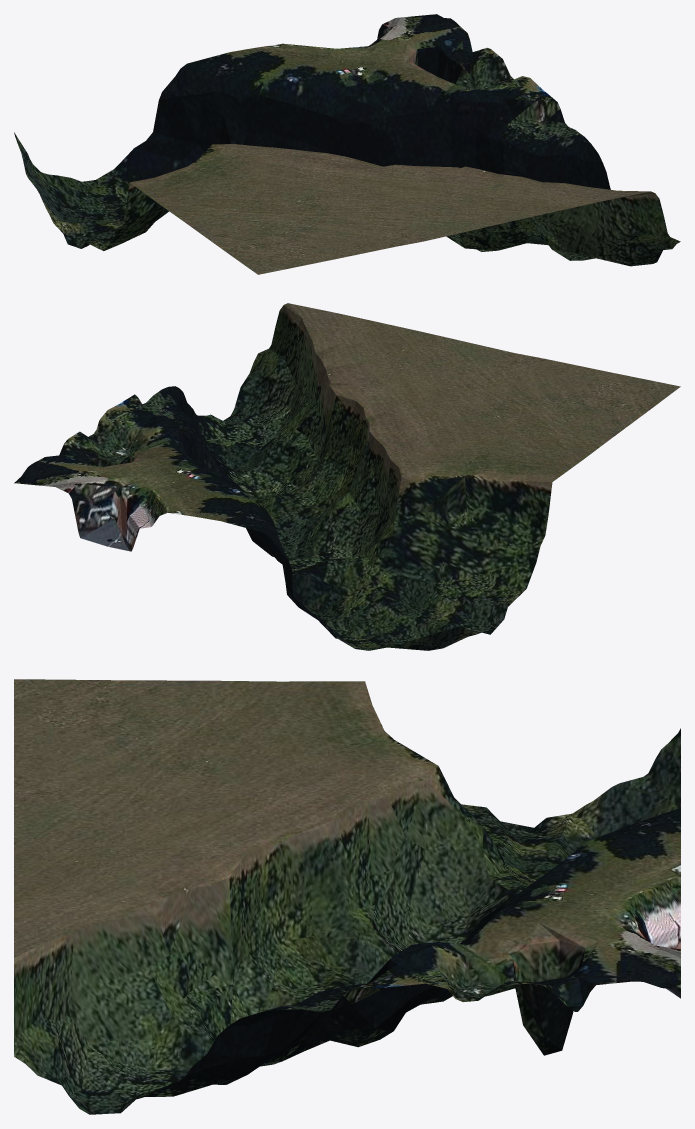
The model's file is map_15_8186_13789.dae.
3 renders of one model, top to bottom at view 1: azimuth 30°, elevation 25°; view 2: azimuth 150°, elevation 25°; view 3: azimuth 270°, elevation 25°, orthographic. The views are drawn at different scales.
Visible parts, largest first — view 1: Ter0; view 2: Ter0; view 3: Ter0.
Boxes of the visible parts, x1,y1,x2,y2 form: Ter0: (14, 14, 680, 274); Ter0: (14, 303, 680, 650); Ter0: (14, 679, 680, 1114).
Size of the model in its own units: 63.88 by 63.88 by 17.71.
3 materials, 3 textured.
